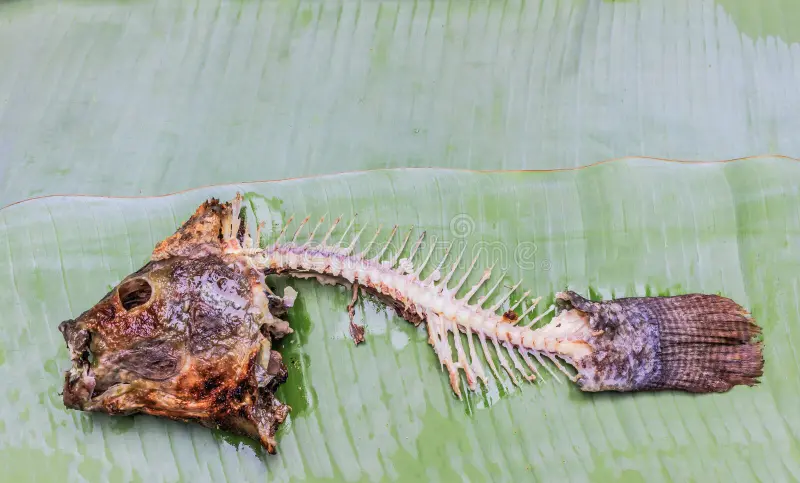food_waste: (61, 191, 738, 440)
